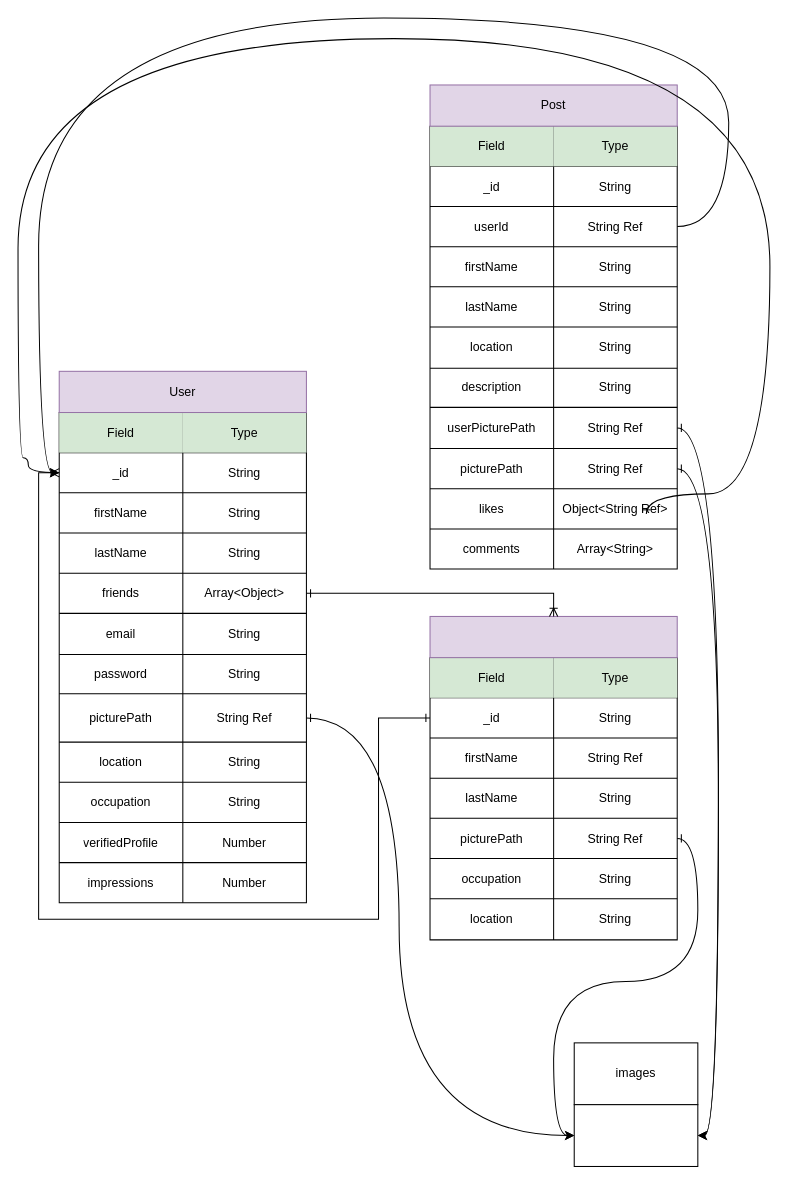
Some shapes in this 788 by 1185 pixel diagram are drawn without their labels. The centre of each missing label's shape, as x and y in pixels:
"Friend (Sub Doc)" belongs at (553,636).
"path" belongs at (635,1135).
